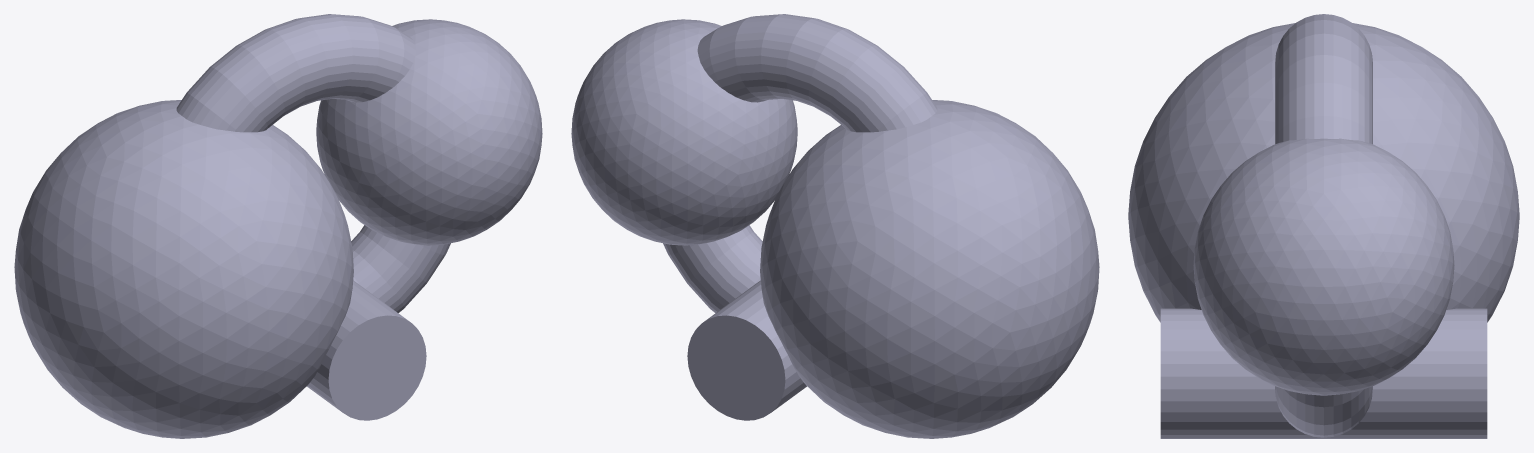
The model's file is model_enterprise_360df0a1.glb.
3 renders of one model, left to right at view 1: azimuth 30°, elevation 25°; view 2: azimuth 150°, elevation 25°; view 3: azimuth 270°, elevation 25°, orthographic. The views are drawn at different scales.
Visible parts, largest first — view 1: world; view 2: world; view 3: world.
Boxes of the visible parts, box(x1,y1,x2,y2) form: world: box(14, 14, 542, 438); world: box(571, 14, 1099, 438); world: box(1128, 14, 1519, 438).
Bounding box in the file's own units: 2 × 1.45 × 1.2.
